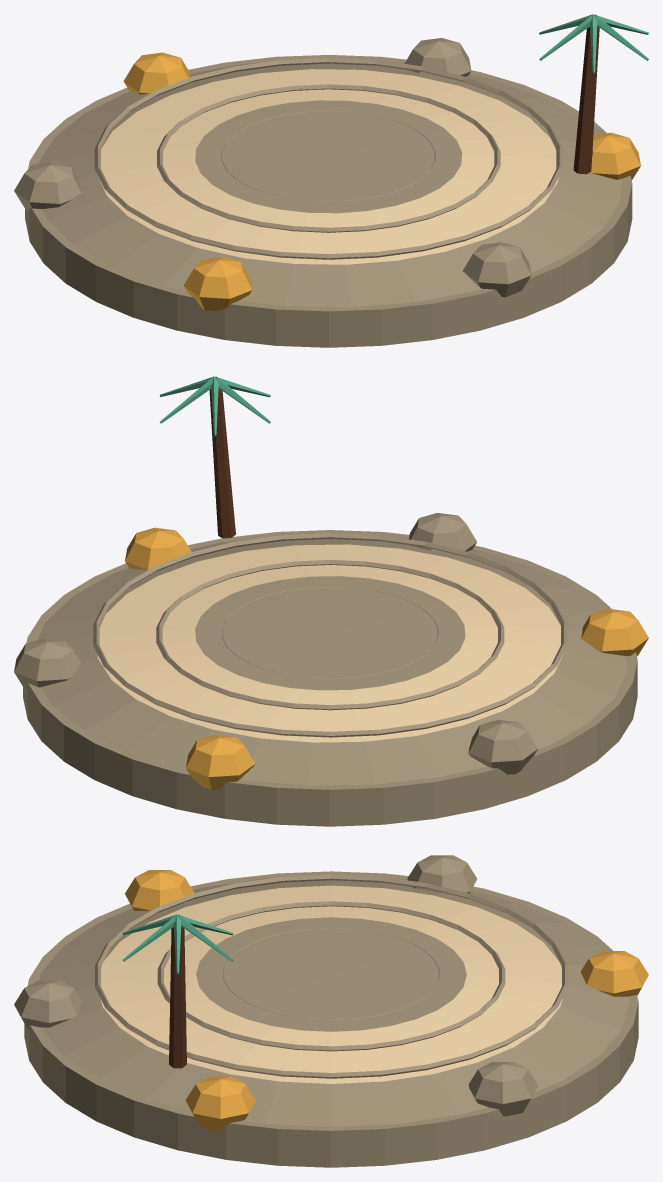
Rendered from ParkParkDuneMound.obj.
The picture shows the model from 3 angles, top to bottom: view 1: azimuth 30°, elevation 25°; view 2: azimuth 150°, elevation 25°; view 3: azimuth 270°, elevation 25°; orthographic projection.
Visible parts, largest first — view 1: ParkParkDuneMound; view 2: ParkParkDuneMound; view 3: ParkParkDuneMound.
Boxes of the visible parts, left/top/right/bottom form: ParkParkDuneMound: left=14, top=14, right=648, bottom=347; ParkParkDuneMound: left=14, top=376, right=648, bottom=826; ParkParkDuneMound: left=14, top=855, right=648, bottom=1167.
Size of the model in its own units: 13.6 by 5.29 by 14.06.
